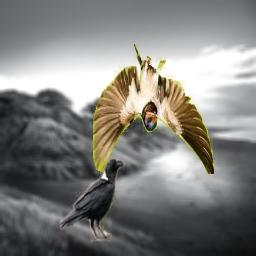Crow: (59, 155, 125, 242)
Swallow: (93, 44, 215, 174)
